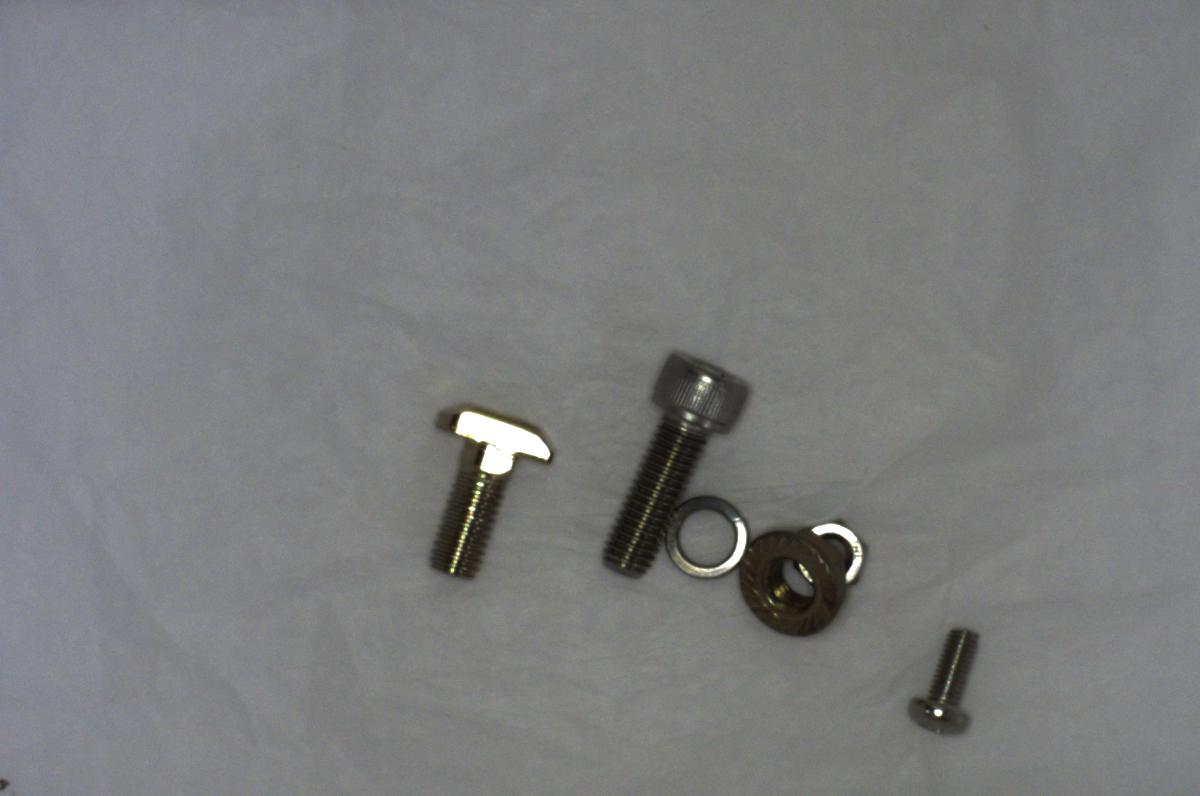Flange nut: (738, 524, 851, 648)
Hexagon nut: (797, 509, 878, 596)
Hexagon screw: (583, 344, 762, 582)
Round head screw: (894, 617, 992, 740)
Spring washer: (662, 487, 750, 596)
T-shaped screw: (401, 399, 565, 580)
